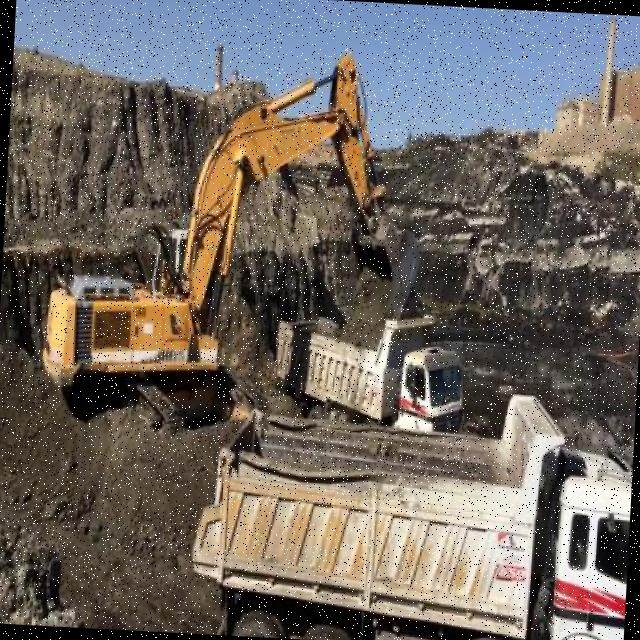Dump Truck: (186, 376, 636, 640), (270, 301, 470, 434)
Excavator: (40, 32, 429, 396)
